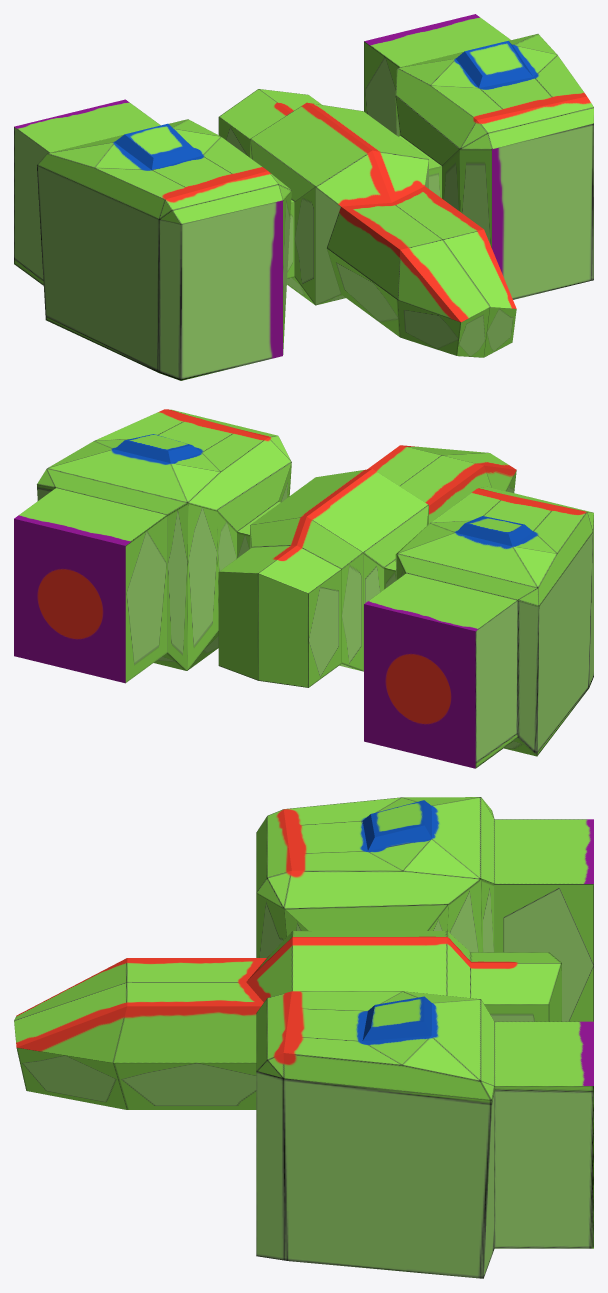
Rendered from enemyModel2.fbx.
3 renders of one model, top to bottom at view 1: azimuth 30°, elevation 25°; view 2: azimuth 150°, elevation 25°; view 3: azimuth 270°, elevation 25°, orthographic. The views are drawn at different scales.
Visible parts, largest first — view 1: Cube.001; view 2: Cube.001; view 3: Cube.001.
Boxes of the visible parts, x1=… form: Cube.001: x1=14, y1=14, x2=593, y2=380; Cube.001: x1=14, y1=409, x2=593, y2=768; Cube.001: x1=14, y1=797, x2=593, y2=1278.
Bounding box in the file's own units: 248 × 90.27 × 210.
Materials: 1 (1 with a texture image).
